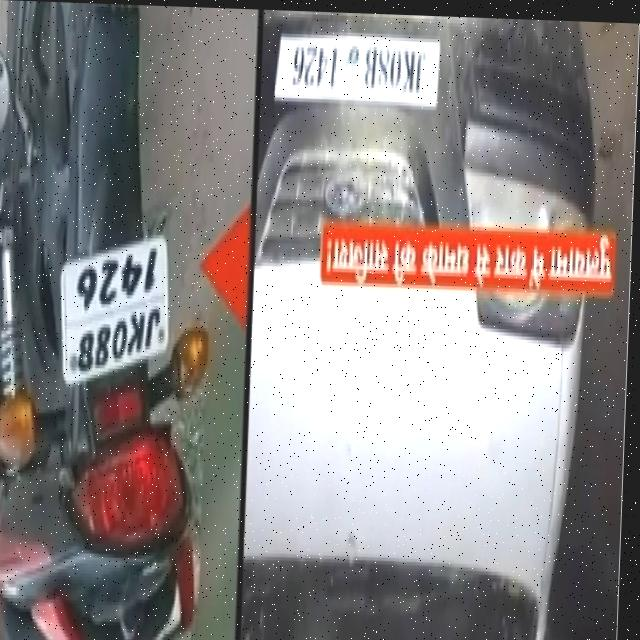plate: (55, 226, 180, 394), (274, 23, 446, 110)
